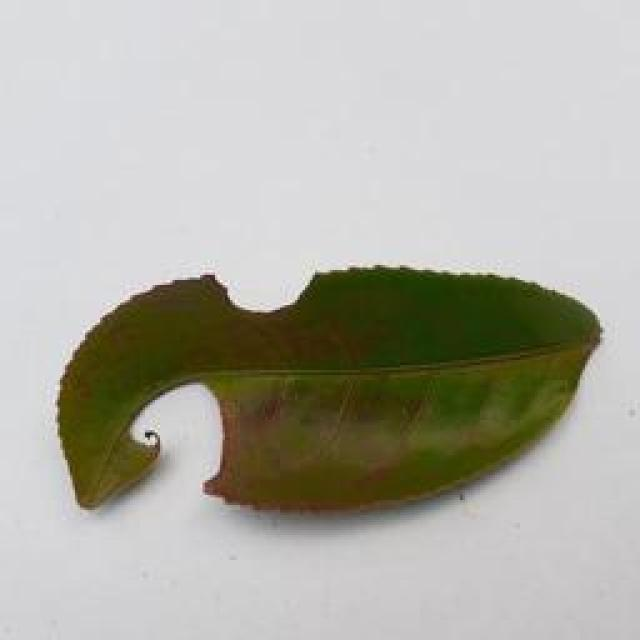Red Leaf Spot: (49, 253, 606, 522)
